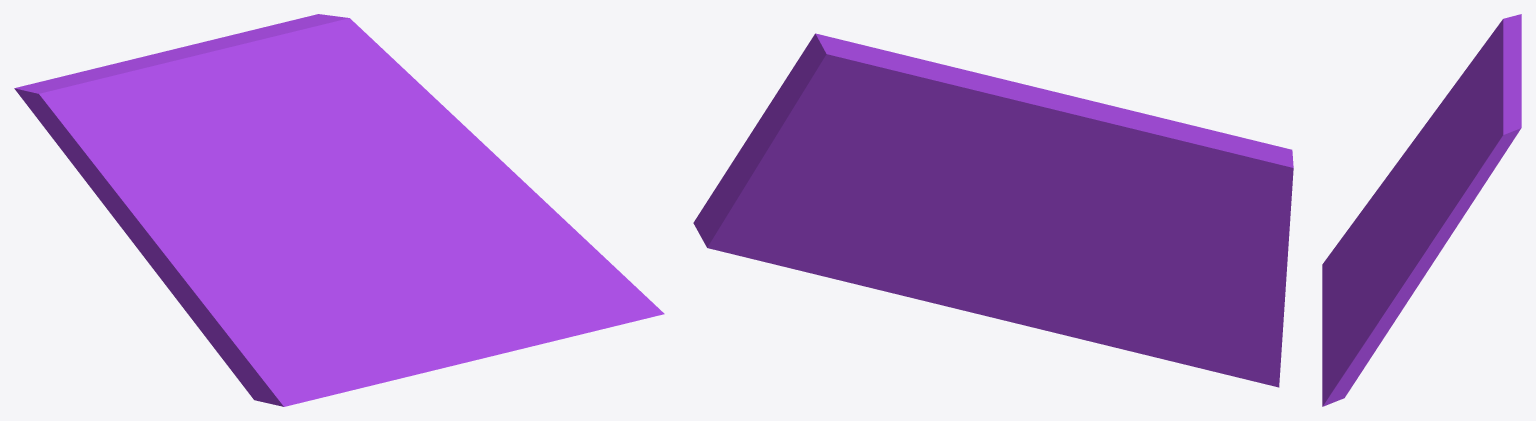
File: Window_85.fbx
The picture shows the model from 3 angles, left to right: view 1: azimuth 30°, elevation 25°; view 2: azimuth 150°, elevation 25°; view 3: azimuth 270°, elevation 25°; orthographic projection. The views are drawn at different scales.
Visible parts, largest first — view 1: Window_85; view 2: Window_85; view 3: Window_85.
Boxes of the visible parts, x1,y1,x2,y2 form: Window_85: [14, 14, 664, 406]; Window_85: [693, 33, 1293, 387]; Window_85: [1322, 14, 1521, 406].
Size of the model in its own units: 1753 by 829 by 756.
